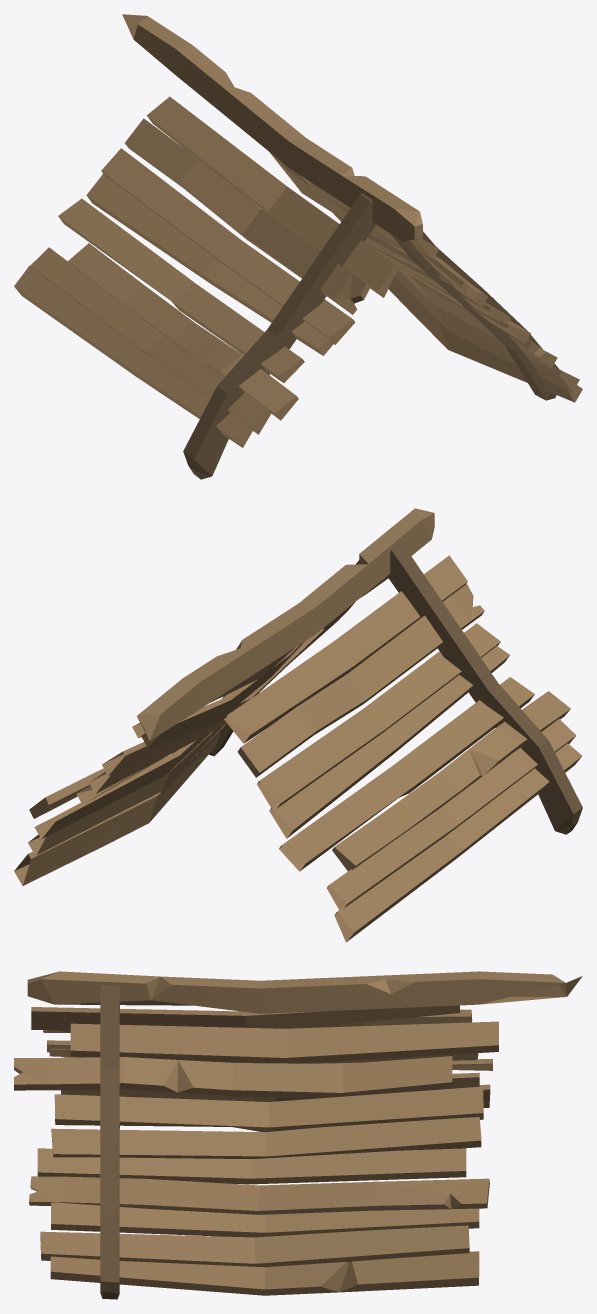
File: SM_Env_Roof_01.fbx
3 renders of one model, top to bottom at view 1: azimuth 30°, elevation 25°; view 2: azimuth 150°, elevation 25°; view 3: azimuth 270°, elevation 25°, orthographic. The views are drawn at different scales.
Visible parts, largest first — view 1: SM_Env_Roof_01; view 2: SM_Env_Roof_01; view 3: SM_Env_Roof_01.
Part boxes in pixels (x1,y1,x2,y2): SM_Env_Roof_01: [14, 14, 582, 479]; SM_Env_Roof_01: [14, 508, 582, 942]; SM_Env_Roof_01: [14, 971, 582, 1299].
Size of the model in its own units: 154 by 103 by 213.
Materials: 1 (1 with a texture image).
